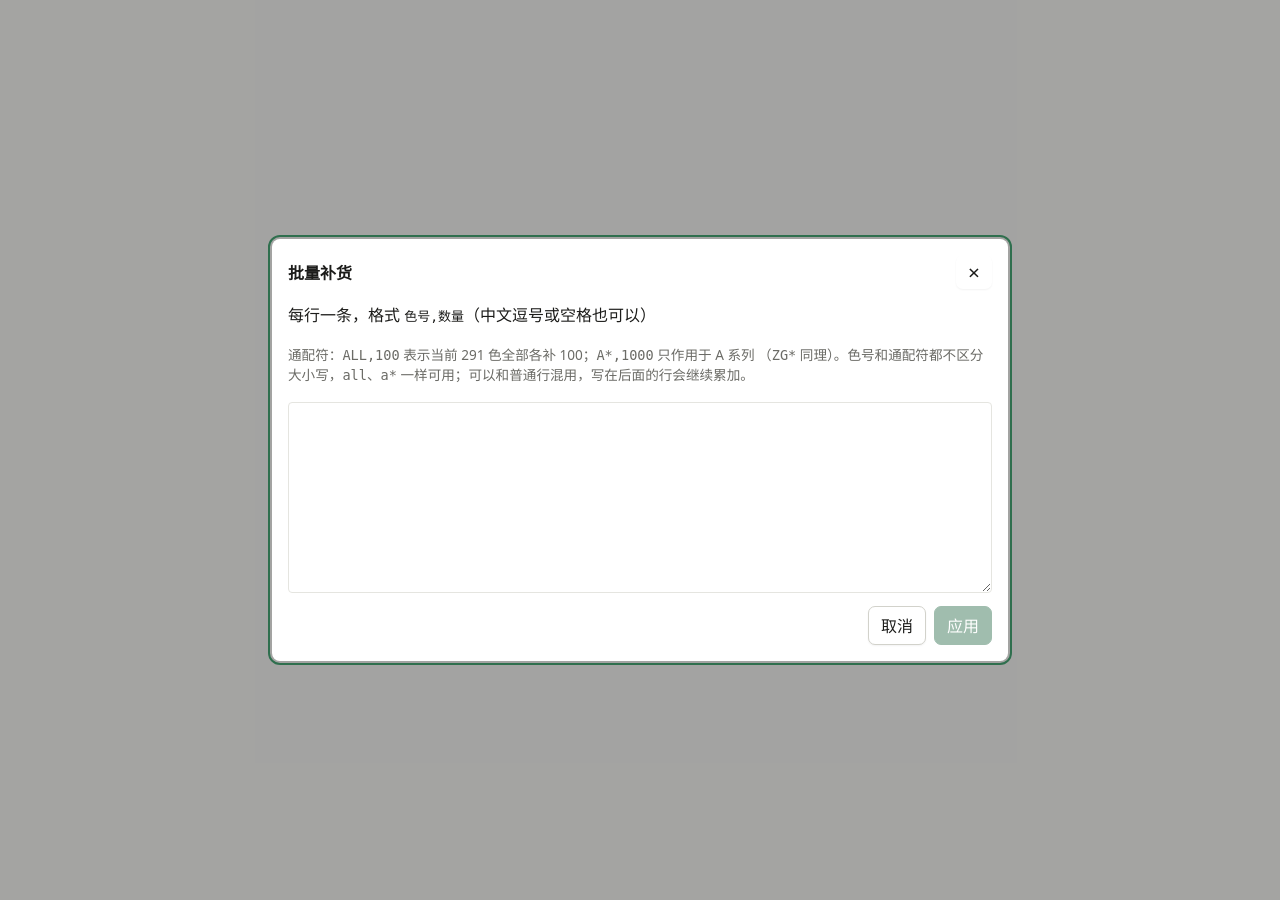
Test: BatchDialog · ALL wildcard › a series wildcard previews the number of codes it covers
Type "A*,1000" into the text box named "批量输入" at [640, 498], box [288,402,992,593]
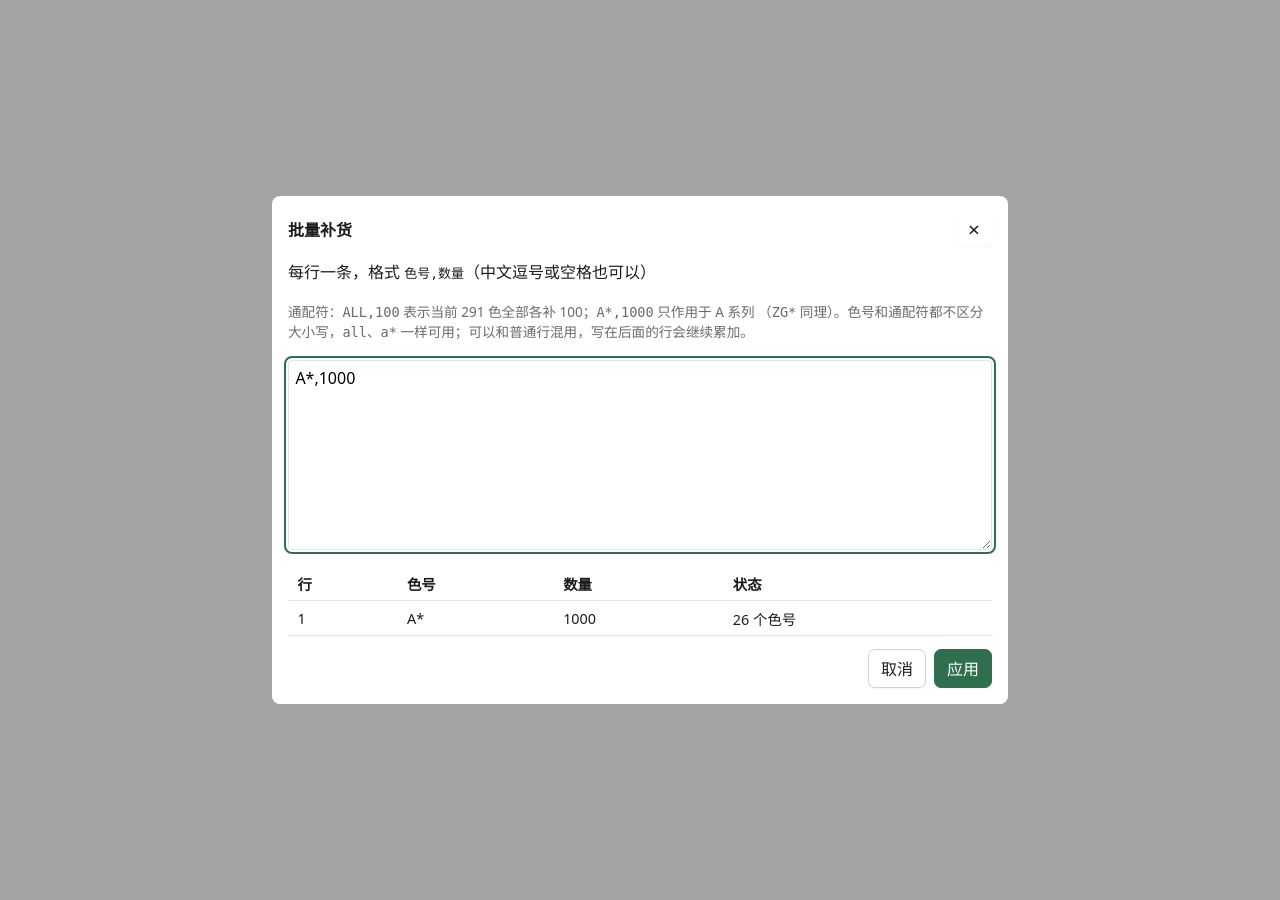
expect the row "1 A* 1000 26 个色号" is shown: met, box [288,601,992,636]
